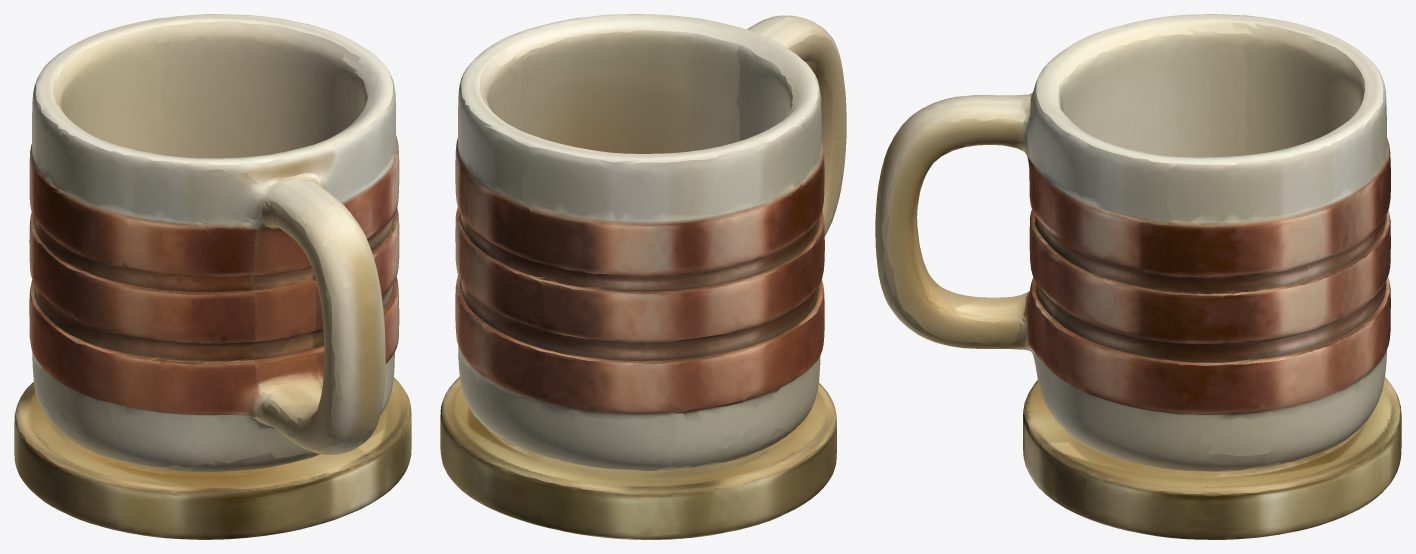
3 views of the same model, side by side, from view 1: azimuth 30°, elevation 25°; view 2: azimuth 150°, elevation 25°; view 3: azimuth 270°, elevation 25° (orthographic).
Visible parts, largest first — view 1: geometry_0; view 2: geometry_0; view 3: geometry_0.
Part boxes in pixels (left/top/right/bottom): geometry_0: left=14, top=14, right=411, bottom=539; geometry_0: left=440, top=14, right=846, bottom=539; geometry_0: left=875, top=14, right=1401, bottom=539.
Bounding box in the file's own units: 0.1016 × 0.105 × 0.1344.
Materials: 1 (1 with a texture image).
